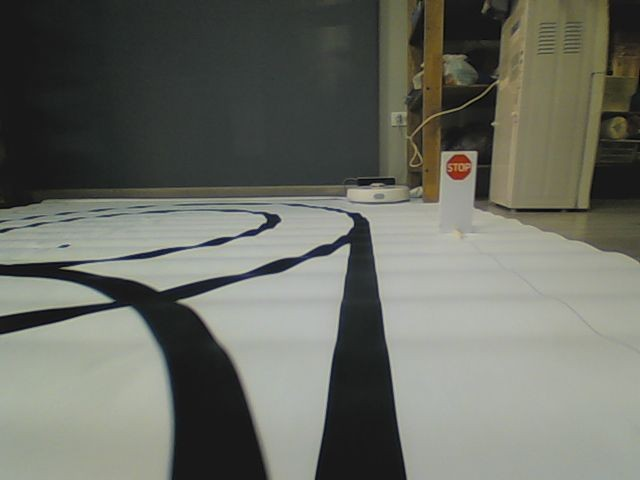Stop: (444, 154, 473, 181)
